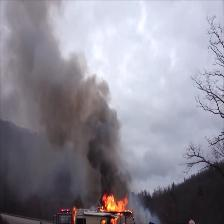fire: (96, 194, 134, 224)
smoke: (2, 2, 138, 189)
